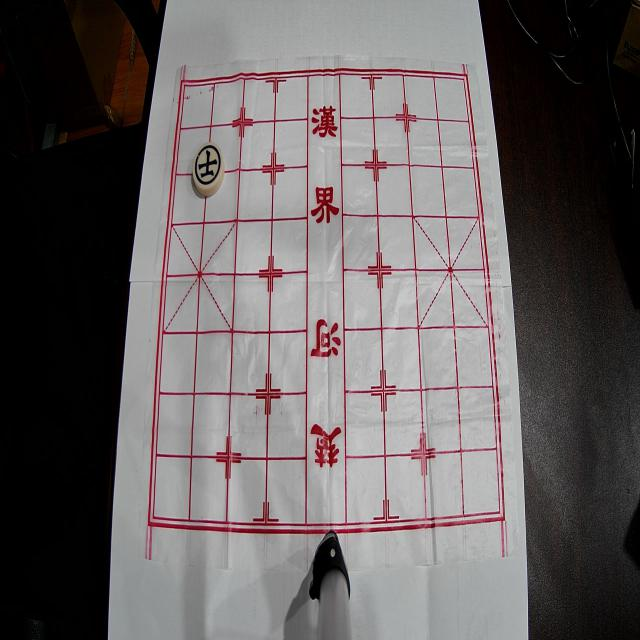black-guard: (193, 142, 225, 196)
